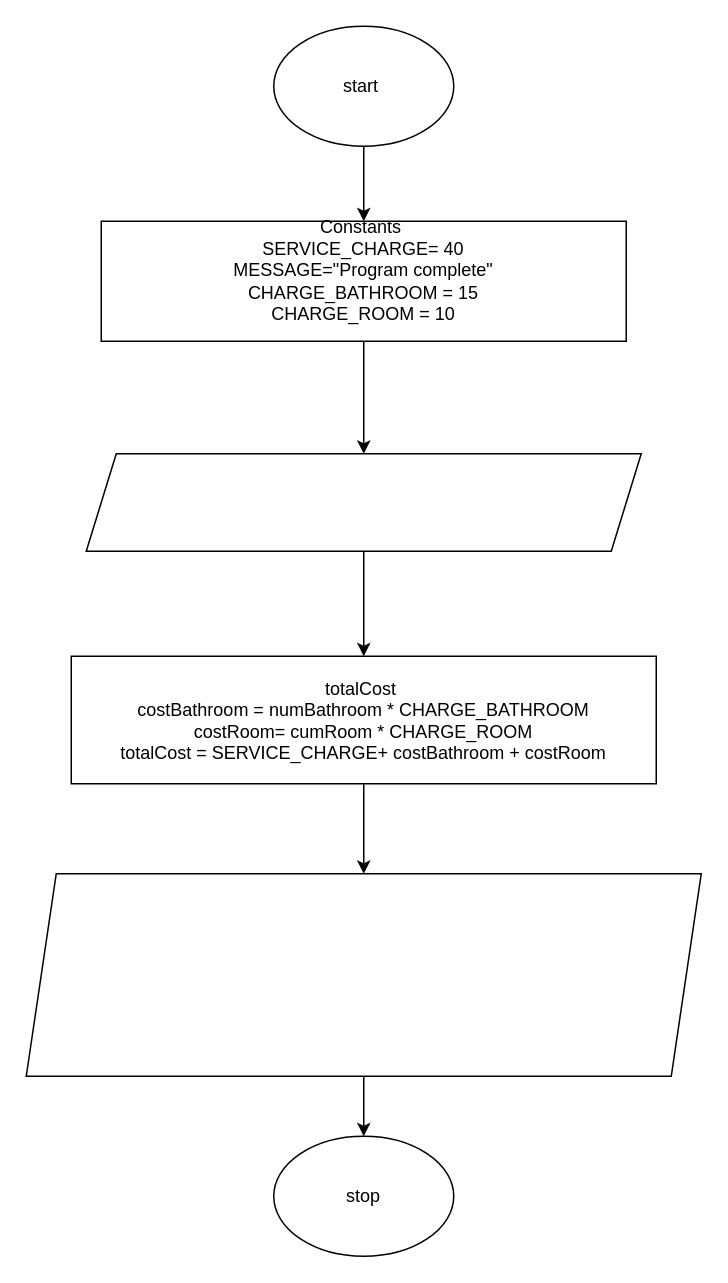
This 728x1283 diagram has some shape labels left out. Here are the shapes that lost their labels. From the top down, the box of each, then its label:
(85, 452, 641, 551): input lastName numBathroom numRoom
(25, 872, 701, 1076): output lastName numBathroom costBathroom numRoom costRoom totalCost MESSAGE
